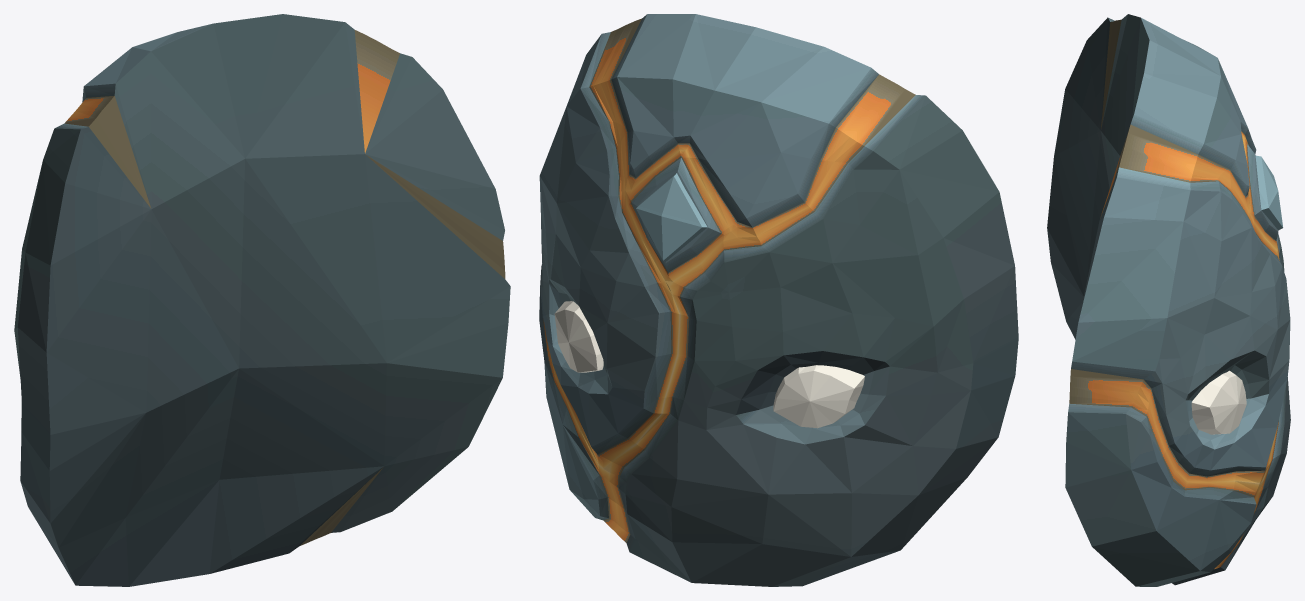
The model's file is CharSkyKid_Mask_AP29RepairedA.glb.
3 views of the same model, side by side, from view 1: azimuth 30°, elevation 25°; view 2: azimuth 150°, elevation 25°; view 3: azimuth 270°, elevation 25° (orthographic). The views are drawn at different scales.
Visible parts, largest first — view 1: CharSkyKid_Mask_AP29RepairedA; view 2: CharSkyKid_Mask_AP29RepairedA; view 3: CharSkyKid_Mask_AP29RepairedA.
Boxes of the visible parts, x1,y1,x2,y2 form: CharSkyKid_Mask_AP29RepairedA: (14,14,510,586); CharSkyKid_Mask_AP29RepairedA: (539,14,1018,586); CharSkyKid_Mask_AP29RepairedA: (1047,14,1290,586).
Bounding box in the file's own units: 2.15 × 2.49 × 1.07.
1 material, 1 textured.
